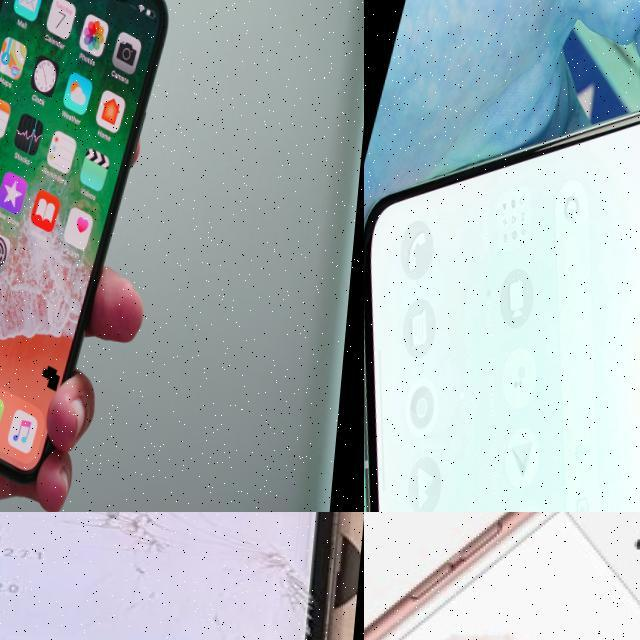dead pixel: (38, 347, 79, 391)
screen crack: (50, 512, 309, 601)
